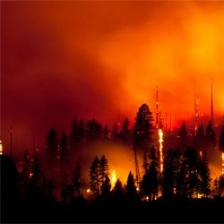fire: (88, 113, 224, 204)
